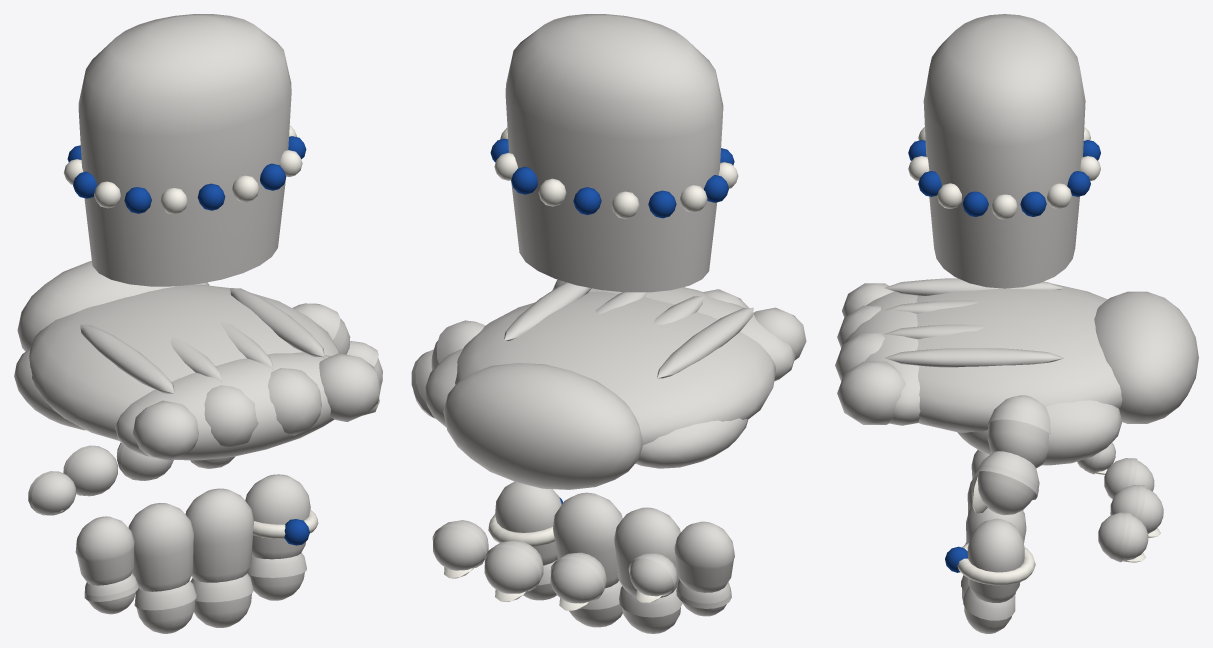
The model's file is Santorini_Mano.fbx.
3 renders of one model, left to right at view 1: azimuth 30°, elevation 25°; view 2: azimuth 150°, elevation 25°; view 3: azimuth 270°, elevation 25°, orthographic. The views are drawn at different scales.
Parts seen in each view (by area): view 1: Antebrazo, Palma, Dedo_Medio_1, Dedo_Anular_1, Dedo_Indice_1, Dedo_Menique_1, Dedo_Medio_2, Dedo_Anular_2, Dedo_Indice_2, Dedo_Anular_3, Dedo_Menique_3, Dedo_Menique_2 (+3 smaller); view 2: Palma, Antebrazo, Dedo_Medio_1, Dedo_Indice_1, Dedo_Menique_1, Dedo_Anular_1, Dedo_Medio_3, Dedo_Anular_3, Dedo_Indice_3, Dedo_Anular_2, Dedo_Menique_3, Dedo_Medio_2 (+4 smaller); view 3: Palma, Antebrazo, Dedo_Indice_1, Pulgar_2, Pulgar_1, Dedo_Indice_3, Dedo_Medio_3, Dedo_Indice_2, Dedo_Anular_3, Dedo_Medio_1, Dedo_Menique_3.
Boxes of the visible parts, x1=… form: Antebrazo: x1=64, y1=14, x2=306, y2=286; Palma: x1=14, y1=261, x2=381, y2=460; Dedo_Medio_1: x1=185, y1=488, x2=253, y2=582; Dedo_Anular_1: x1=128, y1=503, x2=193, y2=591; Dedo_Indice_1: x1=245, y1=474, x2=318, y2=559; Dedo_Menique_1: x1=75, y1=516, x2=134, y2=585; Dedo_Medio_2: x1=191, y1=573, x2=253, y2=627; Dedo_Anular_2: x1=134, y1=580, x2=196, y2=633; Dedo_Indice_2: x1=247, y1=552, x2=306, y2=600; Dedo_Anular_3: x1=63, y1=445, x2=118, y2=496; Dedo_Menique_3: x1=28, y1=471, x2=75, y2=515; Dedo_Menique_2: x1=84, y1=573, x2=138, y2=614; Palma: x1=424, y1=279, x2=806, y2=489; Antebrazo: x1=490, y1=14, x2=738, y2=292; Dedo_Medio_1: x1=553, y1=492, x2=622, y2=588; Dedo_Indice_1: x1=488, y1=481, x2=562, y2=565; Dedo_Menique_1: x1=674, y1=521, x2=734, y2=592; Dedo_Anular_1: x1=614, y1=507, x2=680, y2=597; Dedo_Medio_3: x1=484, y1=540, x2=543, y2=601; Dedo_Anular_3: x1=550, y1=552, x2=606, y2=610; Dedo_Indice_3: x1=432, y1=520, x2=488, y2=578; Dedo_Anular_2: x1=619, y1=586, x2=682, y2=633; Dedo_Menique_3: x1=628, y1=553, x2=677, y2=602; Dedo_Medio_2: x1=569, y1=580, x2=622, y2=627; Palma: x1=835, y1=278, x2=1198, y2=465; Antebrazo: x1=908, y1=14, x2=1100, y2=288; Dedo_Indice_1: x1=945, y1=518, x2=1035, y2=602; Pulgar_2: x1=971, y1=451, x2=1039, y2=515; Pulgar_1: x1=986, y1=395, x2=1050, y2=468; Dedo_Indice_3: x1=1098, y1=512, x2=1148, y2=562; Dedo_Medio_3: x1=1110, y1=485, x2=1163, y2=538; Dedo_Indice_2: x1=963, y1=586, x2=1015, y2=633; Dedo_Anular_3: x1=1104, y1=458, x2=1154, y2=499; Dedo_Medio_1: x1=966, y1=506, x2=1026, y2=543; Dedo_Menique_3: x1=1077, y1=442, x2=1115, y2=474.
Bounding box in the file's own units: 0.6049 × 1.05 × 0.6031.
